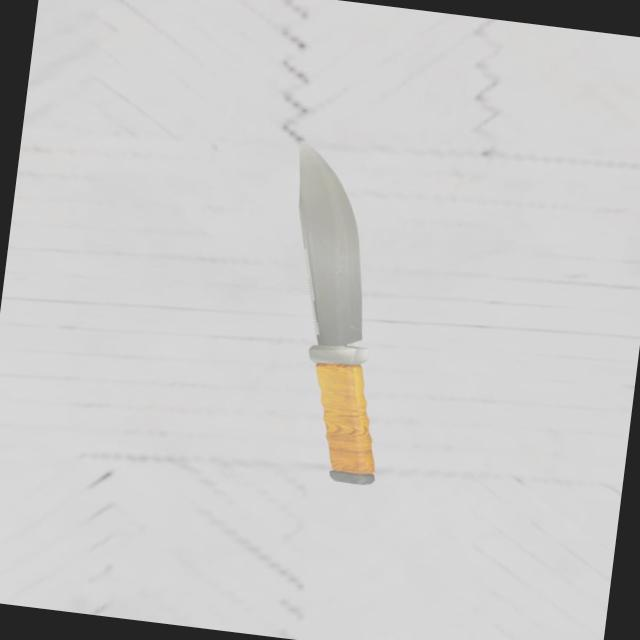knife: (294, 340, 386, 484)
